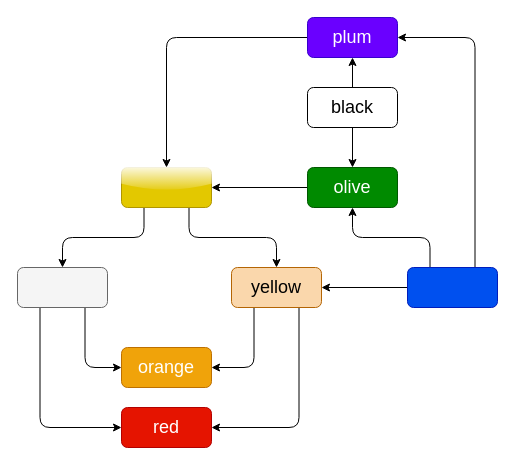
The diagram is 515 pixels wide and 465 high, and some of its shapes have lost their labels. Each missing label, with the centre of its shape:
"blue" belongs at (452,287).
"gold" belongs at (166,187).
"white" belongs at (62,287).
